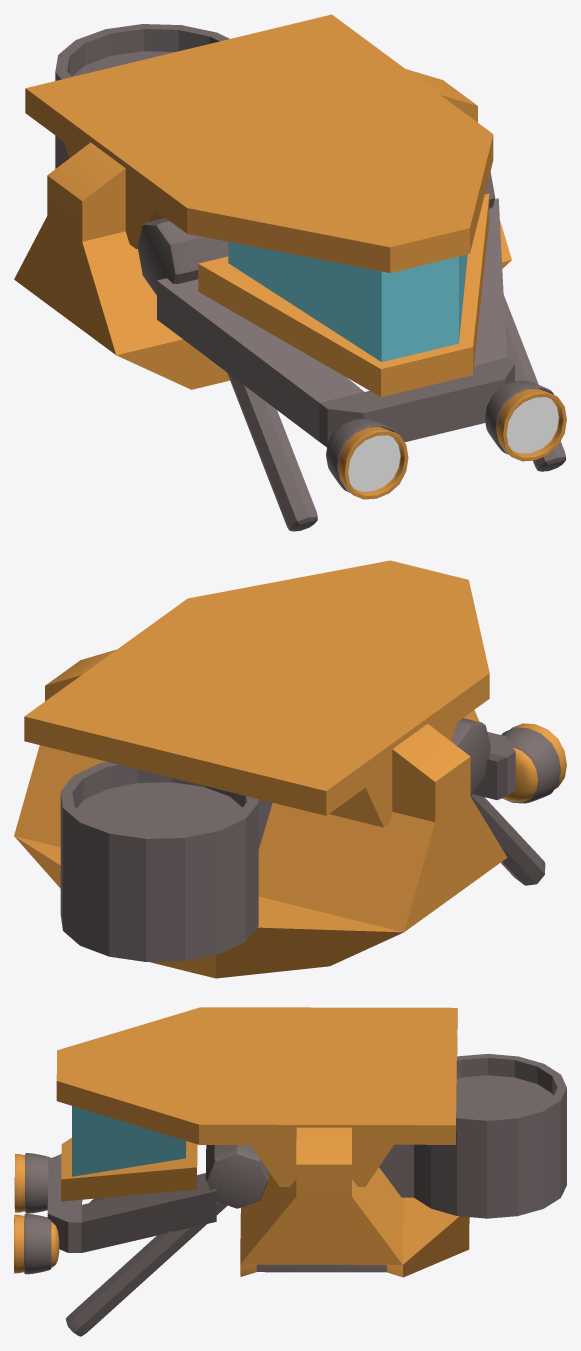
File: MotorLevel1.fbx
3 renders of one model, top to bottom at view 1: azimuth 30°, elevation 25°; view 2: azimuth 150°, elevation 25°; view 3: azimuth 270°, elevation 25°, orthographic. The views are drawn at different scales.
Visible parts, largest first — view 1: MotorLevel1; view 2: MotorLevel1; view 3: MotorLevel1.
Boxes of the visible parts, x1,y1,x2,y2 form: MotorLevel1: (14, 14, 566, 531); MotorLevel1: (14, 560, 566, 978); MotorLevel1: (14, 1007, 566, 1336).
Bounding box in the file's own units: 426 × 285 × 653.
